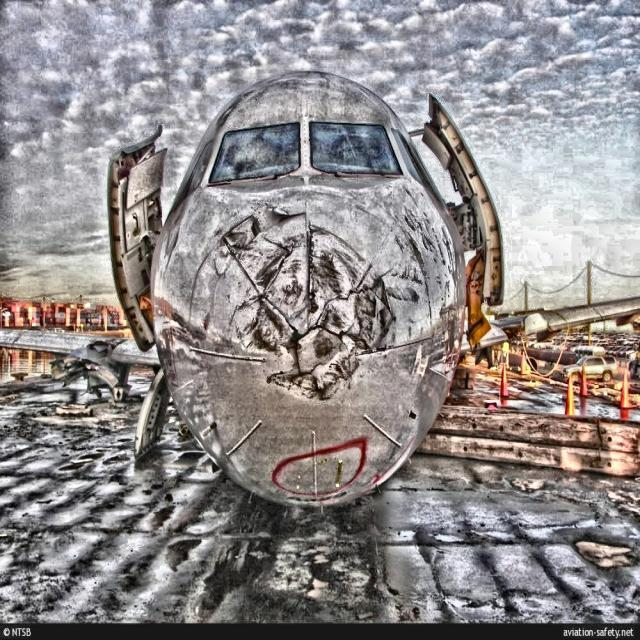crack: (222, 204, 398, 407)
